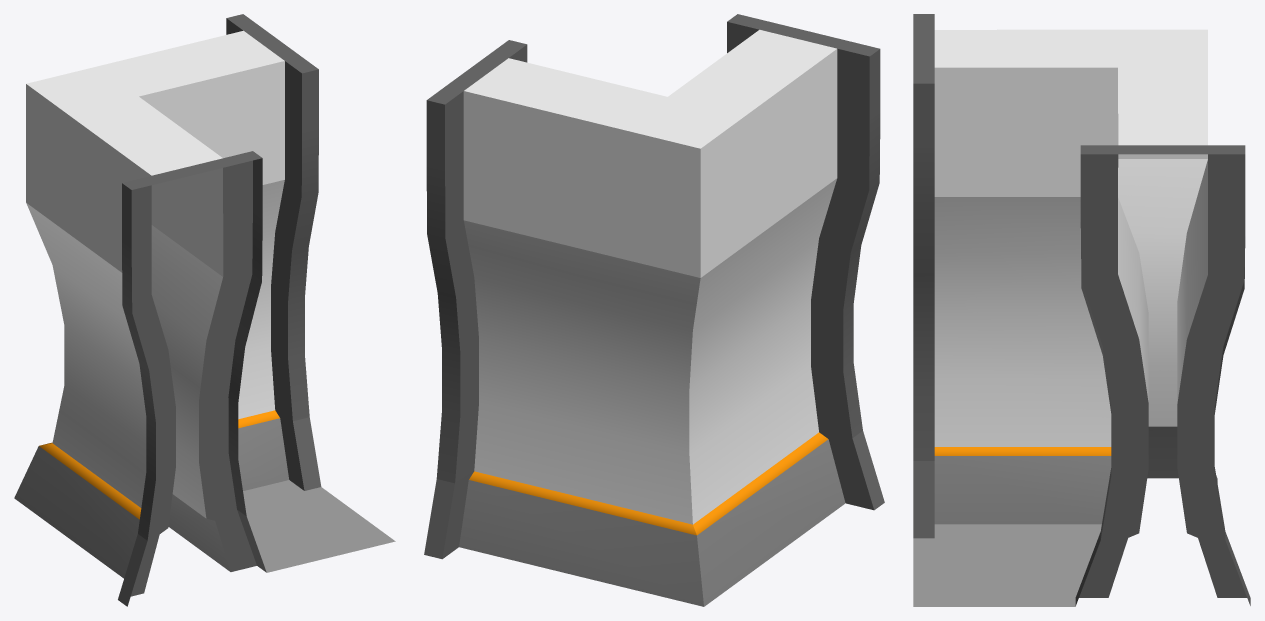
File: SM_InteriorCornerWall_03.fbx
3 views of the same model, side by side, from view 1: azimuth 30°, elevation 25°; view 2: azimuth 150°, elevation 25°; view 3: azimuth 270°, elevation 25° (orthographic). The views are drawn at different scales.
Parts seen in each view (by area): view 1: SM_InteriorCornerWall_03; view 2: SM_InteriorCornerWall_03; view 3: SM_InteriorCornerWall_03.
Boxes of the visible parts, x1,y1,x2,y2 form: SM_InteriorCornerWall_03: (14,14,395,606); SM_InteriorCornerWall_03: (424,14,884,606); SM_InteriorCornerWall_03: (913,14,1250,606).
Bounding box in the file's own units: 135 × 200 × 135.
1 material, 1 textured.
